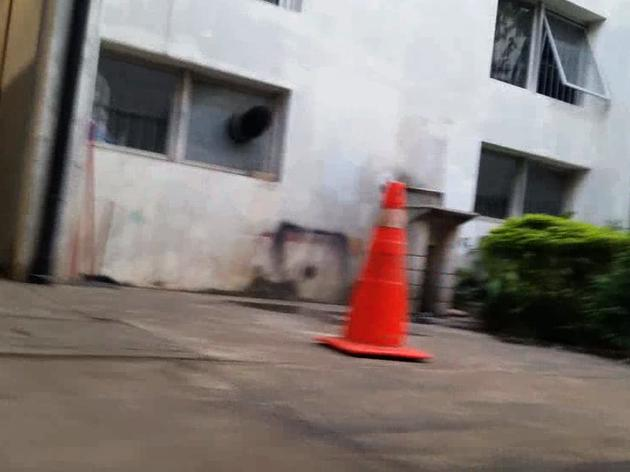0 cone: (314, 180, 429, 359)
